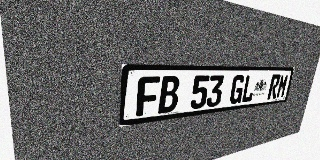3: (206, 75, 224, 108)
5: (190, 75, 210, 110)
B: (158, 76, 180, 114)
F: (136, 76, 160, 117)
G: (229, 75, 246, 105)
L: (241, 75, 257, 103)
M: (276, 74, 289, 98)
R: (267, 74, 281, 100)
